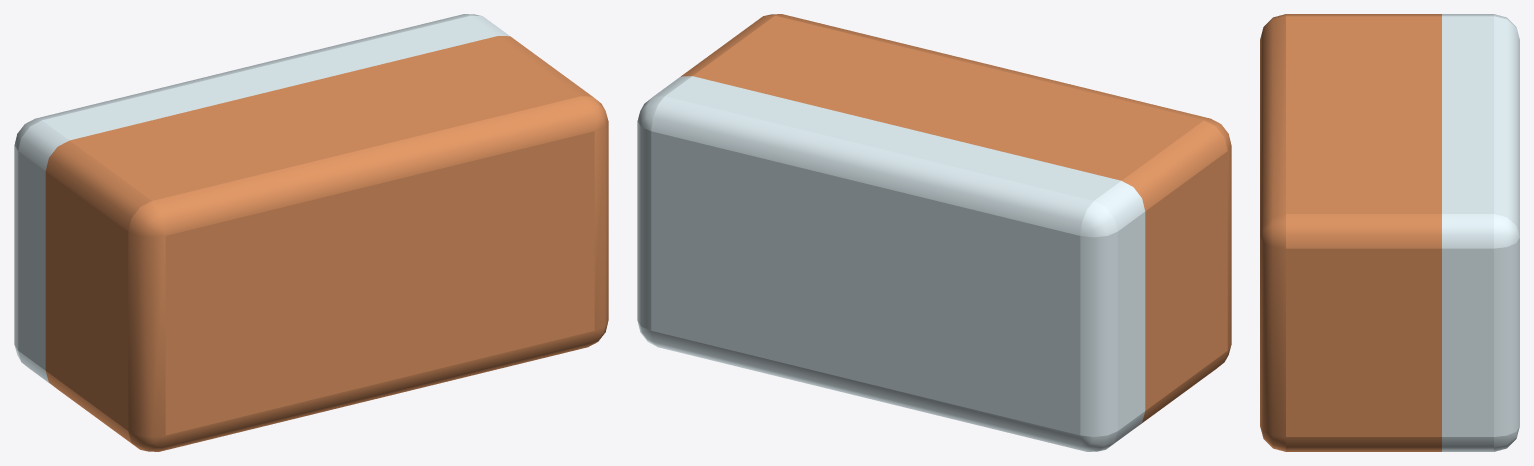
Rendered from blockSnowRoundedLong.obj.
3 renders of one model, left to right at view 1: azimuth 30°, elevation 25°; view 2: azimuth 150°, elevation 25°; view 3: azimuth 270°, elevation 25°, orthographic. The views are drawn at different scales.
Visible parts, largest first — view 1: blockSnowRoundedLong; view 2: blockSnowRoundedLong; view 3: blockSnowRoundedLong.
Part boxes in pixels (<box>): blockSnowRoundedLong: <box>14,14,608,451</box>; blockSnowRoundedLong: <box>637,14,1231,451</box>; blockSnowRoundedLong: <box>1260,14,1519,451</box>.
Bounding box in the file's own units: 2 × 1 × 1.
